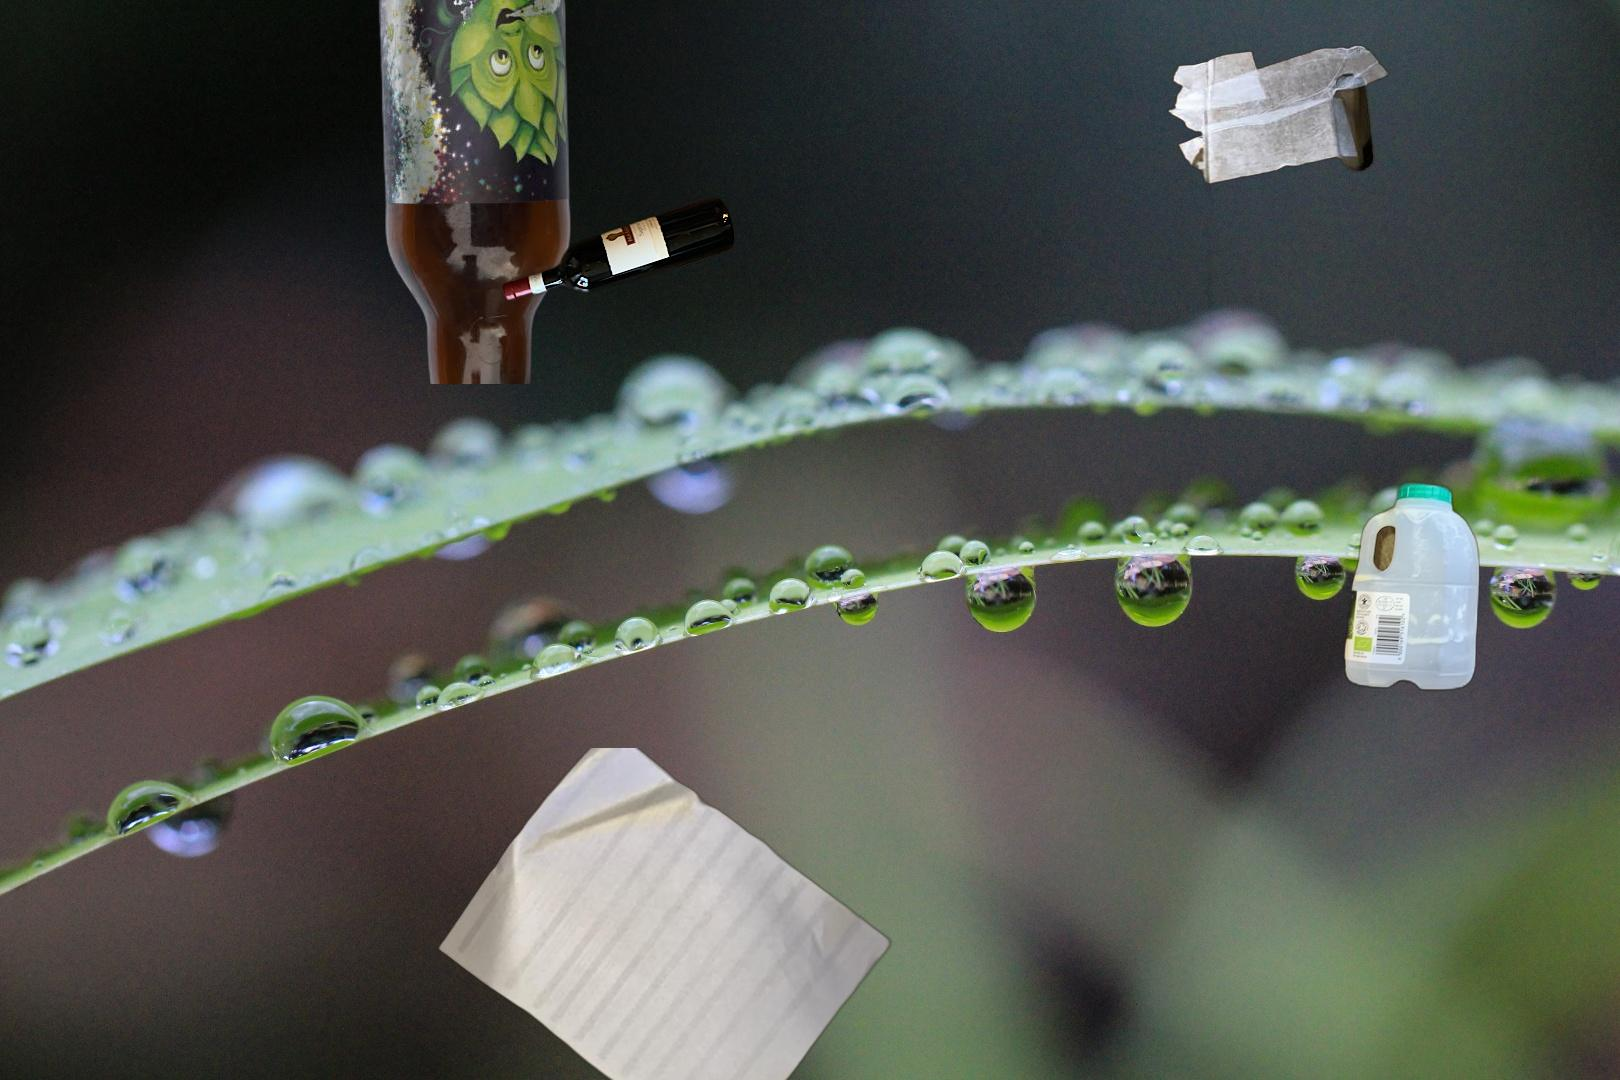glass: (375, 0, 576, 385), (497, 193, 740, 307)
paper: (434, 749, 896, 1080)
plastic-bottles: (1340, 476, 1484, 697)
trashbox-cardboard: (1044, 42, 1393, 413)
